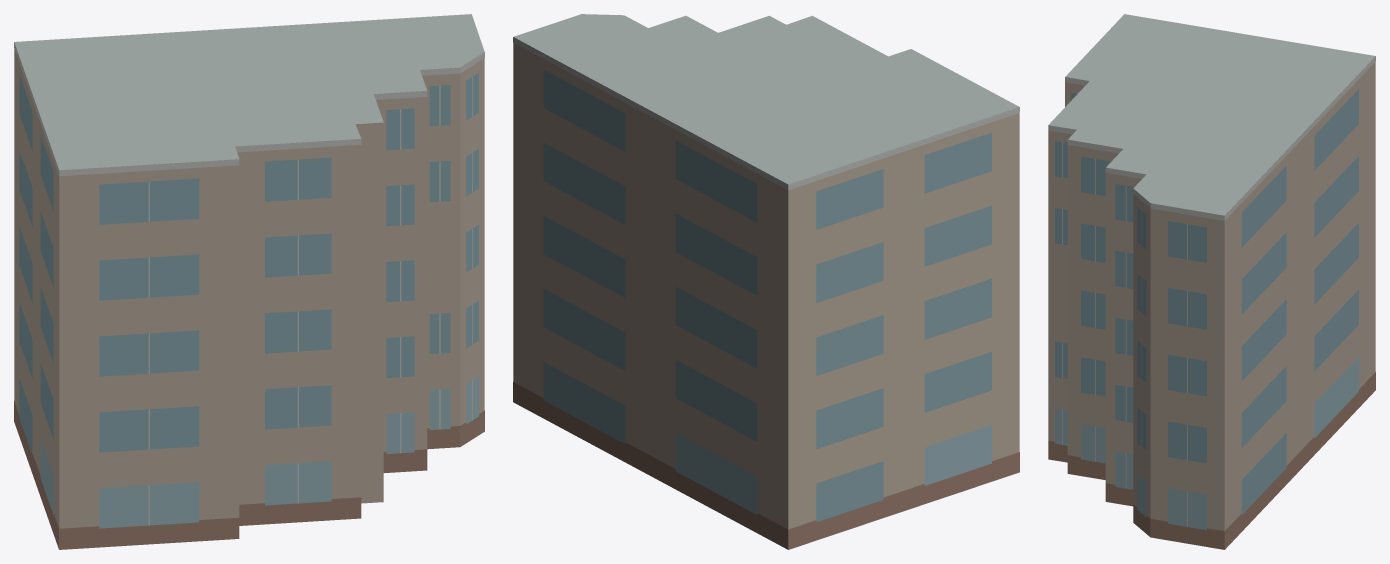
The model's file is survey-upis-32576621.glb.
3 views of the same model, side by side, from view 1: azimuth 30°, elevation 25°; view 2: azimuth 150°, elevation 25°; view 3: azimuth 270°, elevation 25° (orthographic). The views are drawn at different scales.
Parts seen in each view (by area): view 1: survey-upis-32576621.tmp; view 2: survey-upis-32576621.tmp; view 3: survey-upis-32576621.tmp.
Part boxes in pixels (<box>): survey-upis-32576621.tmp: <box>14,14,484,549</box>; survey-upis-32576621.tmp: <box>513,14,1019,549</box>; survey-upis-32576621.tmp: <box>1048,14,1375,549</box>.
Bounding box in the file's own units: 19.94 × 15.4 × 13.69.
